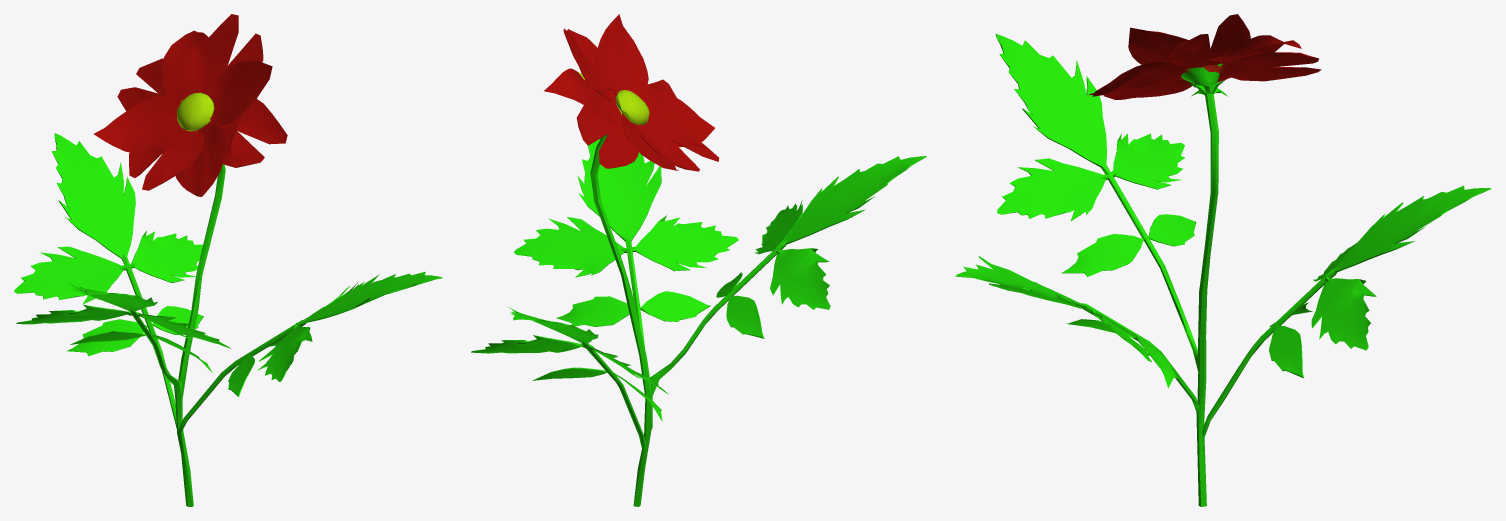
Rendered from Dahlie_LP_2.fbx.
3 renders of one model, left to right at view 1: azimuth 30°, elevation 25°; view 2: azimuth 150°, elevation 25°; view 3: azimuth 270°, elevation 25°, orthographic. The views are drawn at different scales.
Parts seen in each view (by area): view 1: Dahlie_LP; view 2: Dahlie_LP; view 3: Dahlie_LP.
Part boxes in pixels (box(x1,y1,x2,y2)): Dahlie_LP: box(14, 14, 442, 506); Dahlie_LP: box(471, 14, 926, 506); Dahlie_LP: box(955, 14, 1491, 506).
Size of the model in its own units: 164 by 216 by 201.
